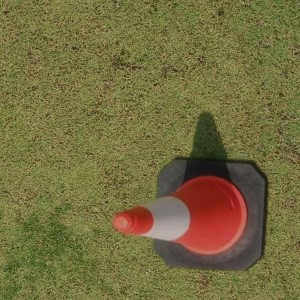traffic cone: (112, 159, 267, 272)
